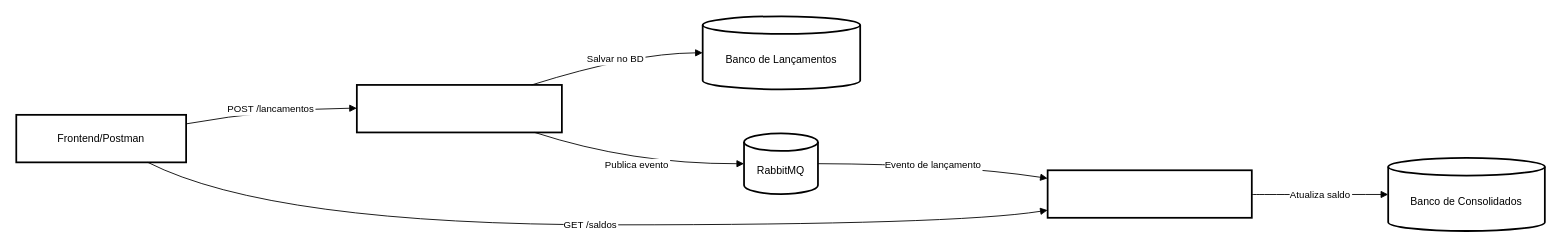
This 1560x246 diagram has some shape labels left out. Here are the shapes that lost their labels. From the top down, the centre of each, then its label:
At point 459,108: "Serviço de Lançamentos".
At point 1149,193: "Serviço de Consolidação".
